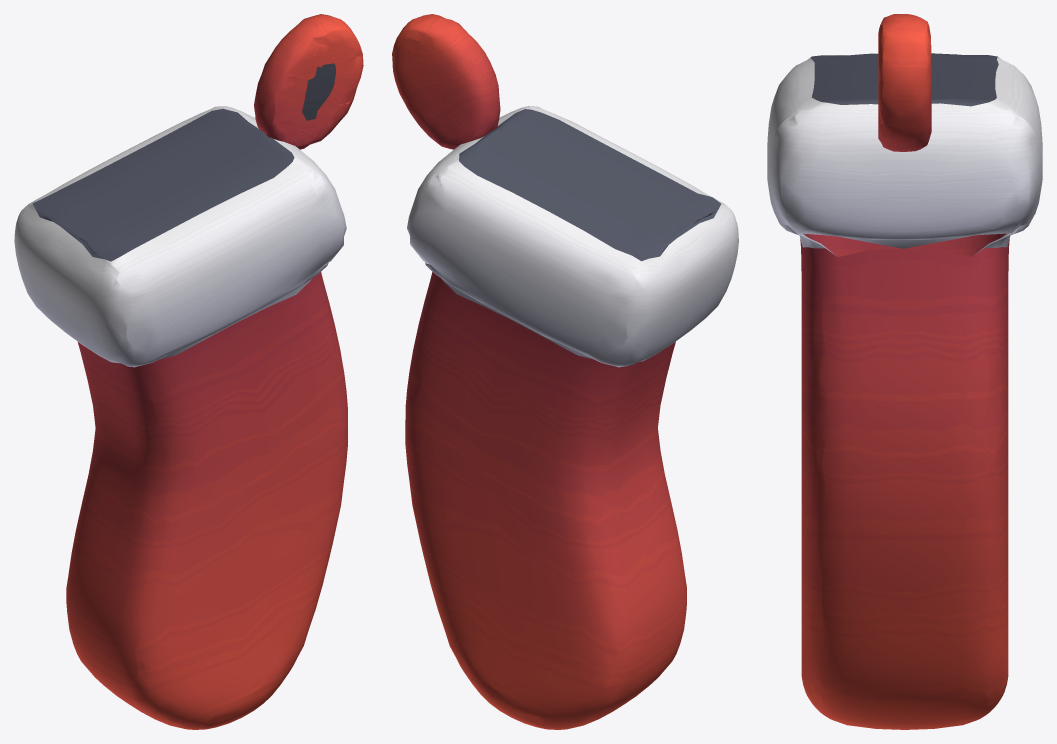
The picture shows the model from 3 angles, left to right: view 1: azimuth 30°, elevation 25°; view 2: azimuth 150°, elevation 25°; view 3: azimuth 270°, elevation 25°; orthographic projection. The views are drawn at different scales.
Size of the model in its own units: 0.4814 by 0.9945 by 0.3211.
1 material, 1 textured.
